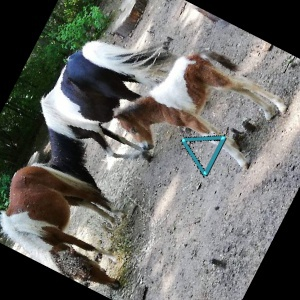triangle: (179, 131, 228, 179)
